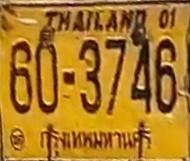0: (36, 40, 58, 113)
3: (78, 40, 102, 115)
4: (130, 38, 153, 115)
6: (154, 36, 178, 113), (10, 40, 33, 115)
7: (104, 38, 126, 116)
BKK: (37, 124, 155, 156)
